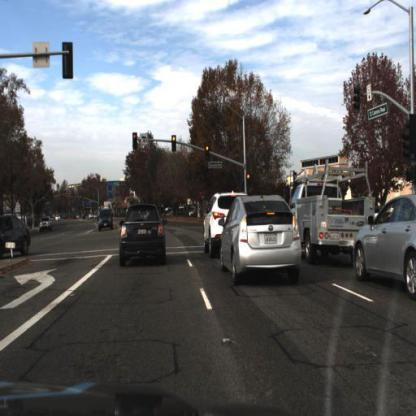car: (291, 163, 378, 264), (221, 191, 303, 284), (350, 194, 416, 304), (291, 182, 379, 264), (119, 201, 168, 269), (119, 203, 168, 265), (202, 193, 231, 261), (204, 192, 233, 256), (1, 213, 34, 259), (98, 208, 115, 234), (98, 211, 114, 232), (41, 214, 55, 236), (39, 216, 53, 234)
trafficLight: (246, 170, 253, 187)
trafficLight-Red: (245, 170, 254, 194), (176, 133, 184, 156), (171, 133, 178, 158), (205, 144, 212, 165), (206, 143, 211, 163)
trafficLight-RedLeft: (132, 131, 141, 152), (133, 132, 141, 152)
